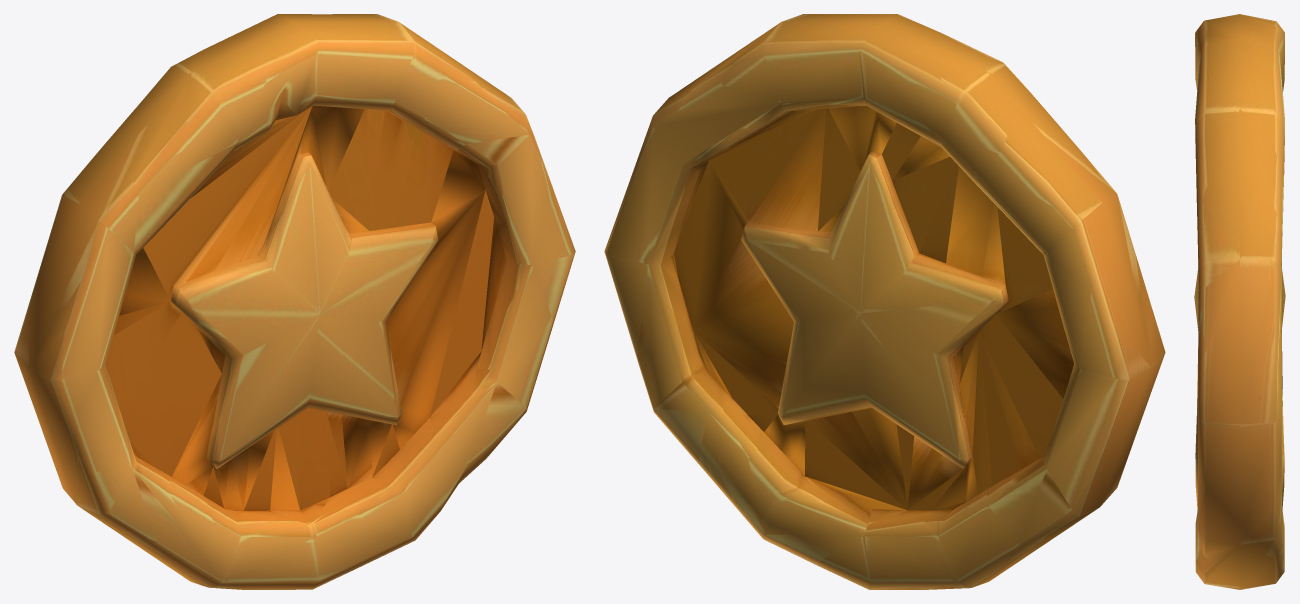
Rendered from coin_star.fbx.
3 renders of one model, left to right at view 1: azimuth 30°, elevation 25°; view 2: azimuth 150°, elevation 25°; view 3: azimuth 270°, elevation 25°, orthographic. The views are drawn at different scales.
Visible parts, largest first — view 1: coin_star; view 2: coin_star; view 3: coin_star.
Part boxes in pixels (bbox=[...]): coin_star: bbox=[14, 14, 575, 589]; coin_star: bbox=[604, 14, 1165, 589]; coin_star: bbox=[1194, 14, 1285, 589].
Bounding box in the file's own units: 0.9 × 0.9037 × 0.1418.
1 material, 1 textured.
